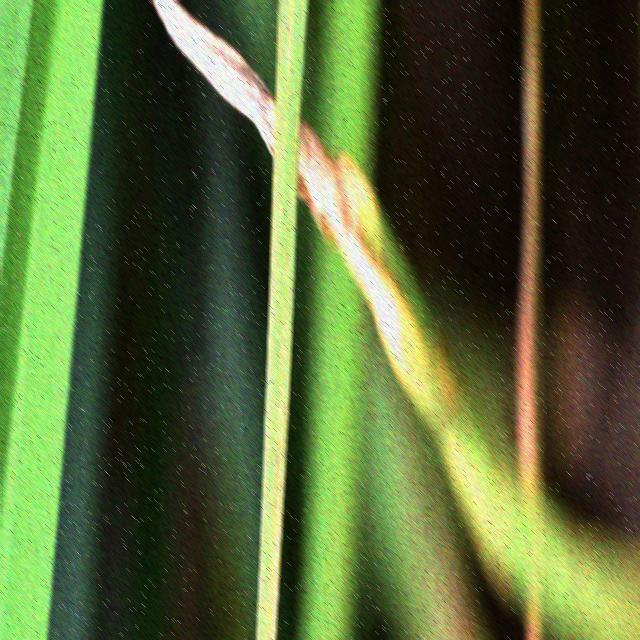BLS: (267, 0, 304, 637), (273, 294, 293, 637), (278, 0, 293, 306), (270, 11, 280, 272)
